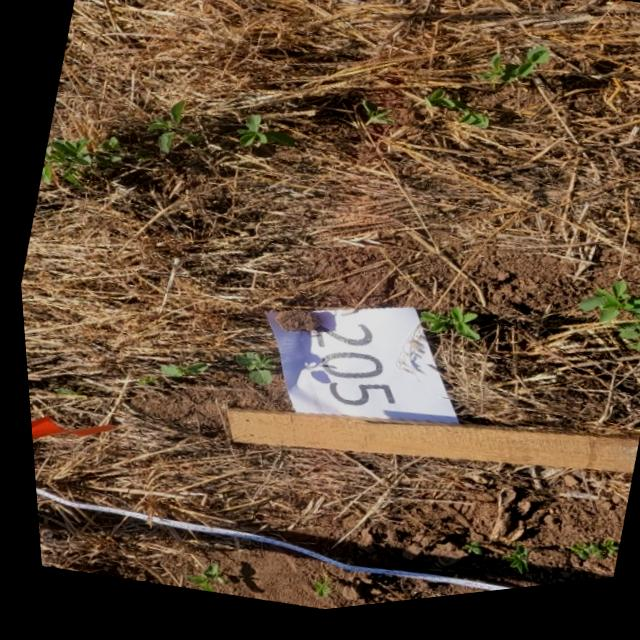soy_plant: (572, 293, 640, 377), (37, 138, 119, 183), (479, 59, 547, 96), (450, 550, 519, 585), (421, 104, 483, 139), (412, 315, 471, 349), (234, 121, 291, 153), (146, 105, 179, 157), (227, 356, 268, 388), (557, 552, 610, 573), (178, 566, 214, 596), (352, 109, 388, 133), (151, 365, 201, 382), (302, 582, 320, 603)
